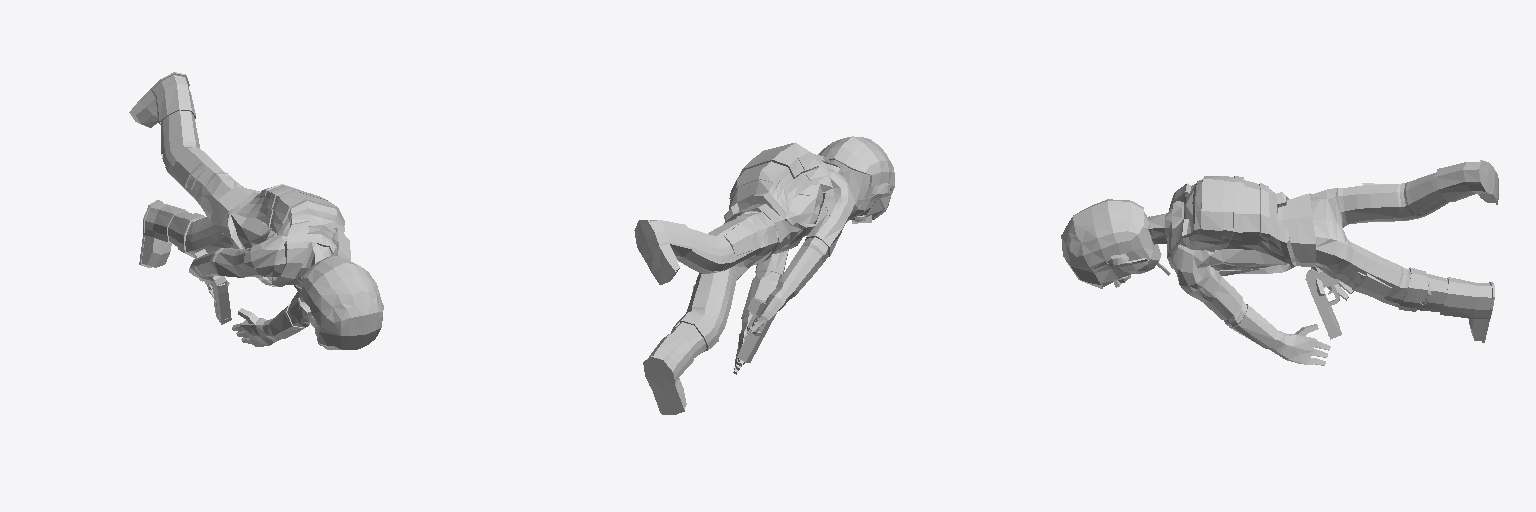
Rendered from frame_0026.obj.
3 views of the same model, side by side, from view 1: azimuth 30°, elevation 25°; view 2: azimuth 150°, elevation 25°; view 3: azimuth 270°, elevation 25° (orthographic).
Parts seen in each view (by area): view 1: Body, Gun; view 2: Body, Gun; view 3: Body, Gun.
Boxes of the visible parts, x1,y1,x2,y2 form: Body: [129, 72, 383, 349]; Gun: [195, 249, 231, 324]; Body: [634, 136, 894, 414]; Gun: [737, 297, 776, 362]; Body: [1061, 160, 1498, 365]; Gun: [1305, 269, 1341, 339].
Size of the model in its own units: 1.14 by 2.2 by 4.14.